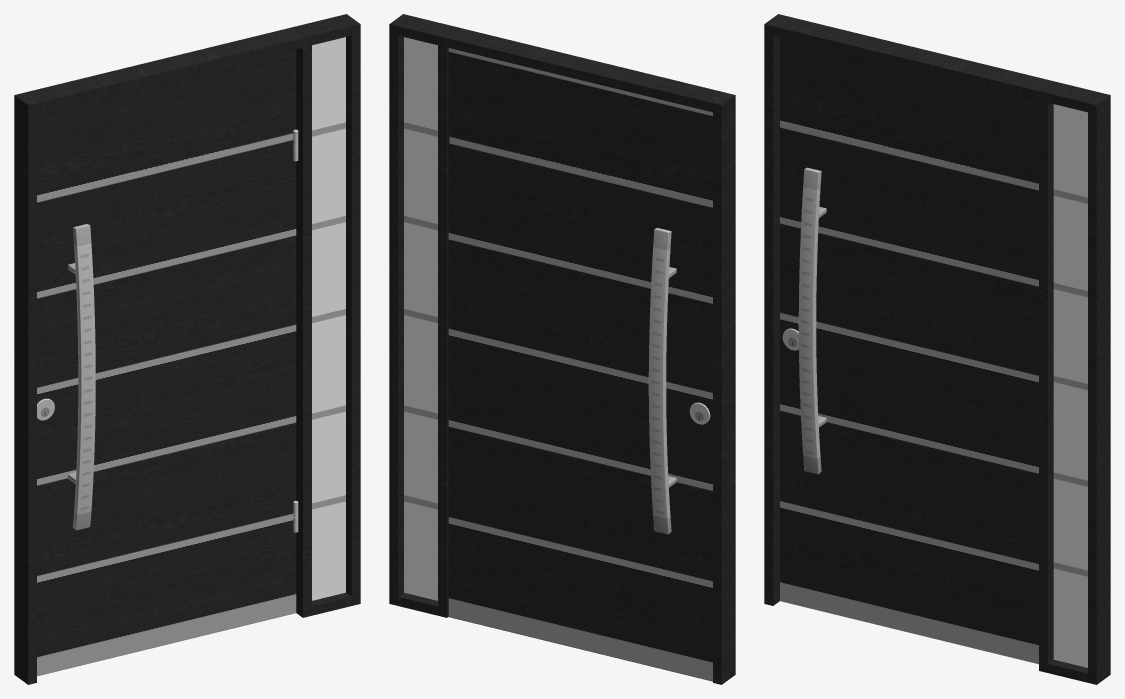
Rendered from DoorSingle02.FBX.
3 views of the same model, side by side, from view 1: azimuth 30°, elevation 25°; view 2: azimuth 150°, elevation 25°; view 3: azimuth 330°, elevation 25° (orthographic).
Parts seen in each view (by area): view 1: Door, Frame; view 2: Door, Frame; view 3: Door, Frame.
Part boxes in pixels (x1,y1,x2,y2): Door: (37,49,298,676); Frame: (14,14,360,684); Door: (448,48,712,681); Frame: (389,14,735,684); Door: (780,37,1038,664); Frame: (764,14,1110,684).
Size of the model in its own units: 150 by 250 by 29.78.
